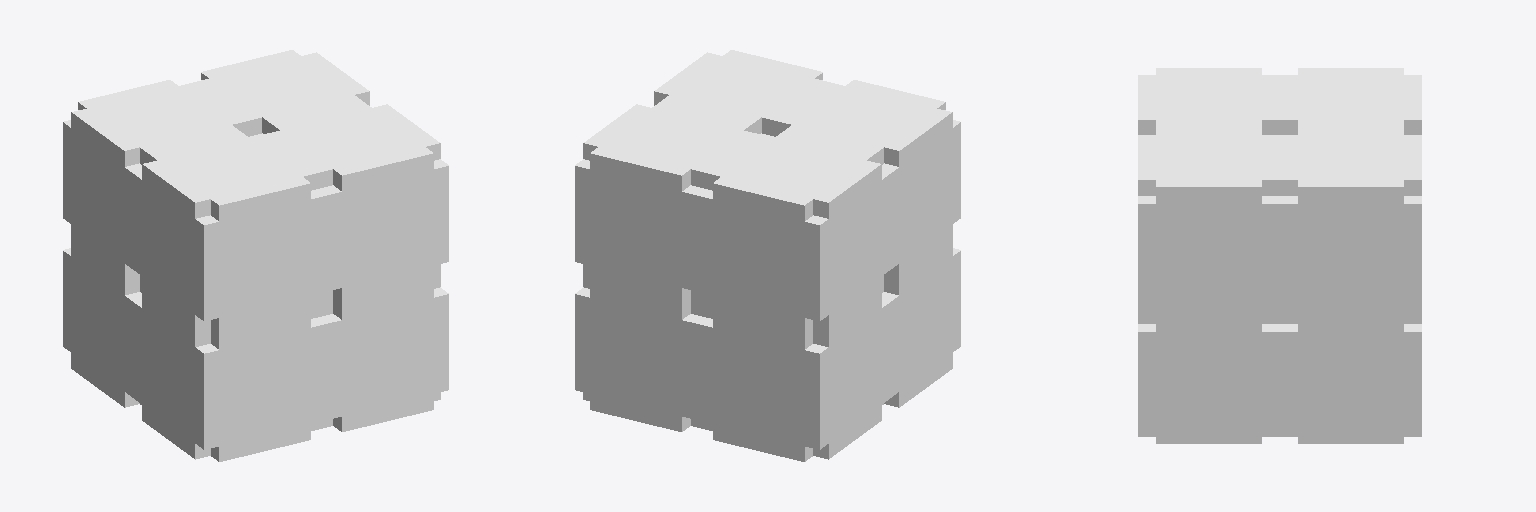
The model's file is tetris_o.obj.
3 views of the same model, side by side, from view 1: azimuth 30°, elevation 25°; view 2: azimuth 150°, elevation 25°; view 3: azimuth 270°, elevation 25° (orthographic).
Parts seen in each view (by area): view 1: object 1; view 2: object 1; view 3: object 1.
Boxes of the visible parts, x1=… form: object 1: x1=63, y1=50, x2=448, y2=461; object 1: x1=575, y1=50, x2=960, y2=461; object 1: x1=1138, y1=68, x2=1421, y2=443.
Bounding box in the file's own units: 1.6 × 1.6 × 1.6.